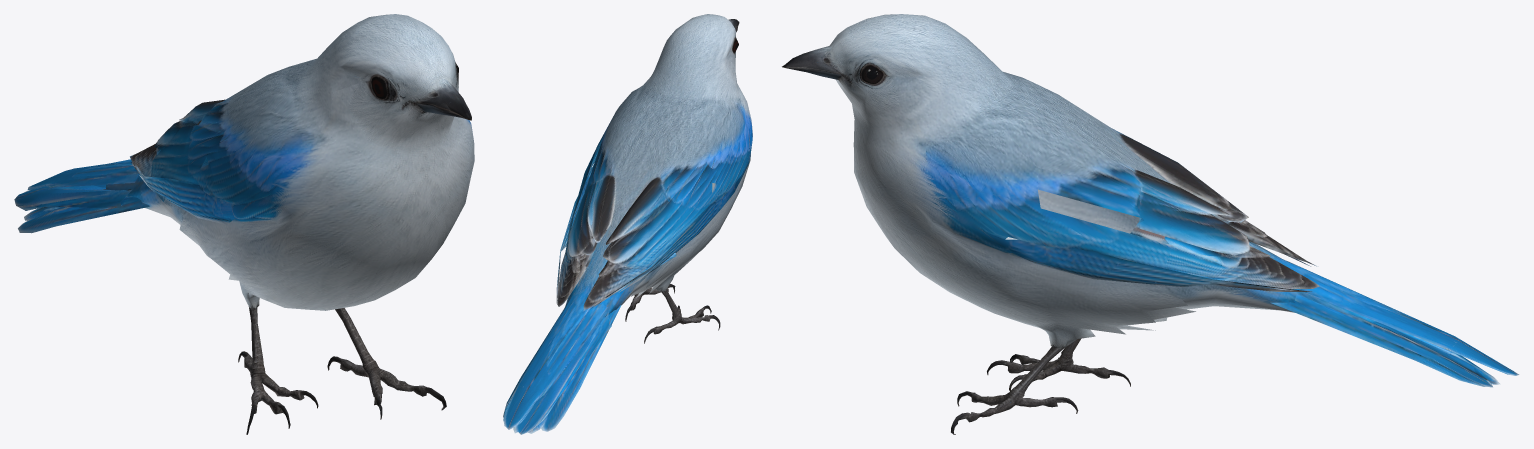
Rendered from Meshy_AI_Blue_Bird_Smart_Topol_1012035232_texture.glb.
3 views of the same model, side by side, from view 1: azimuth 30°, elevation 25°; view 2: azimuth 150°, elevation 25°; view 3: azimuth 270°, elevation 25° (orthographic). The views are drawn at different scales.
Size of the model in its own units: 0.2925 by 0.5654 by 0.9619.
1 material, 1 textured.
